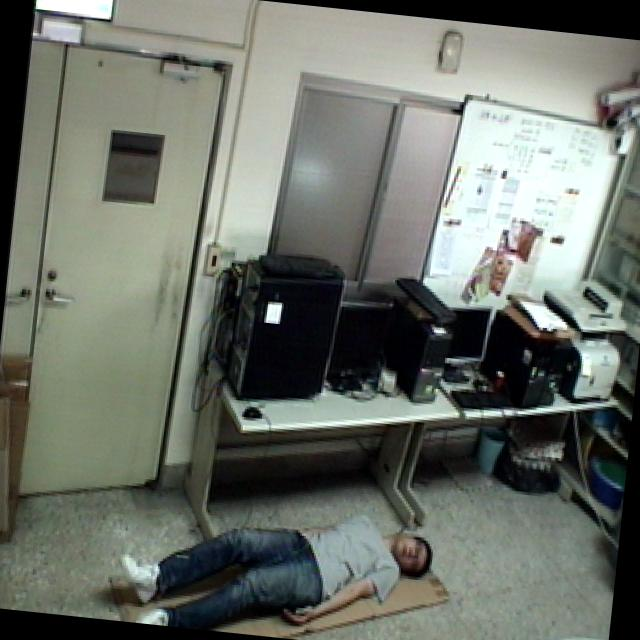lie: (103, 476, 442, 640)
